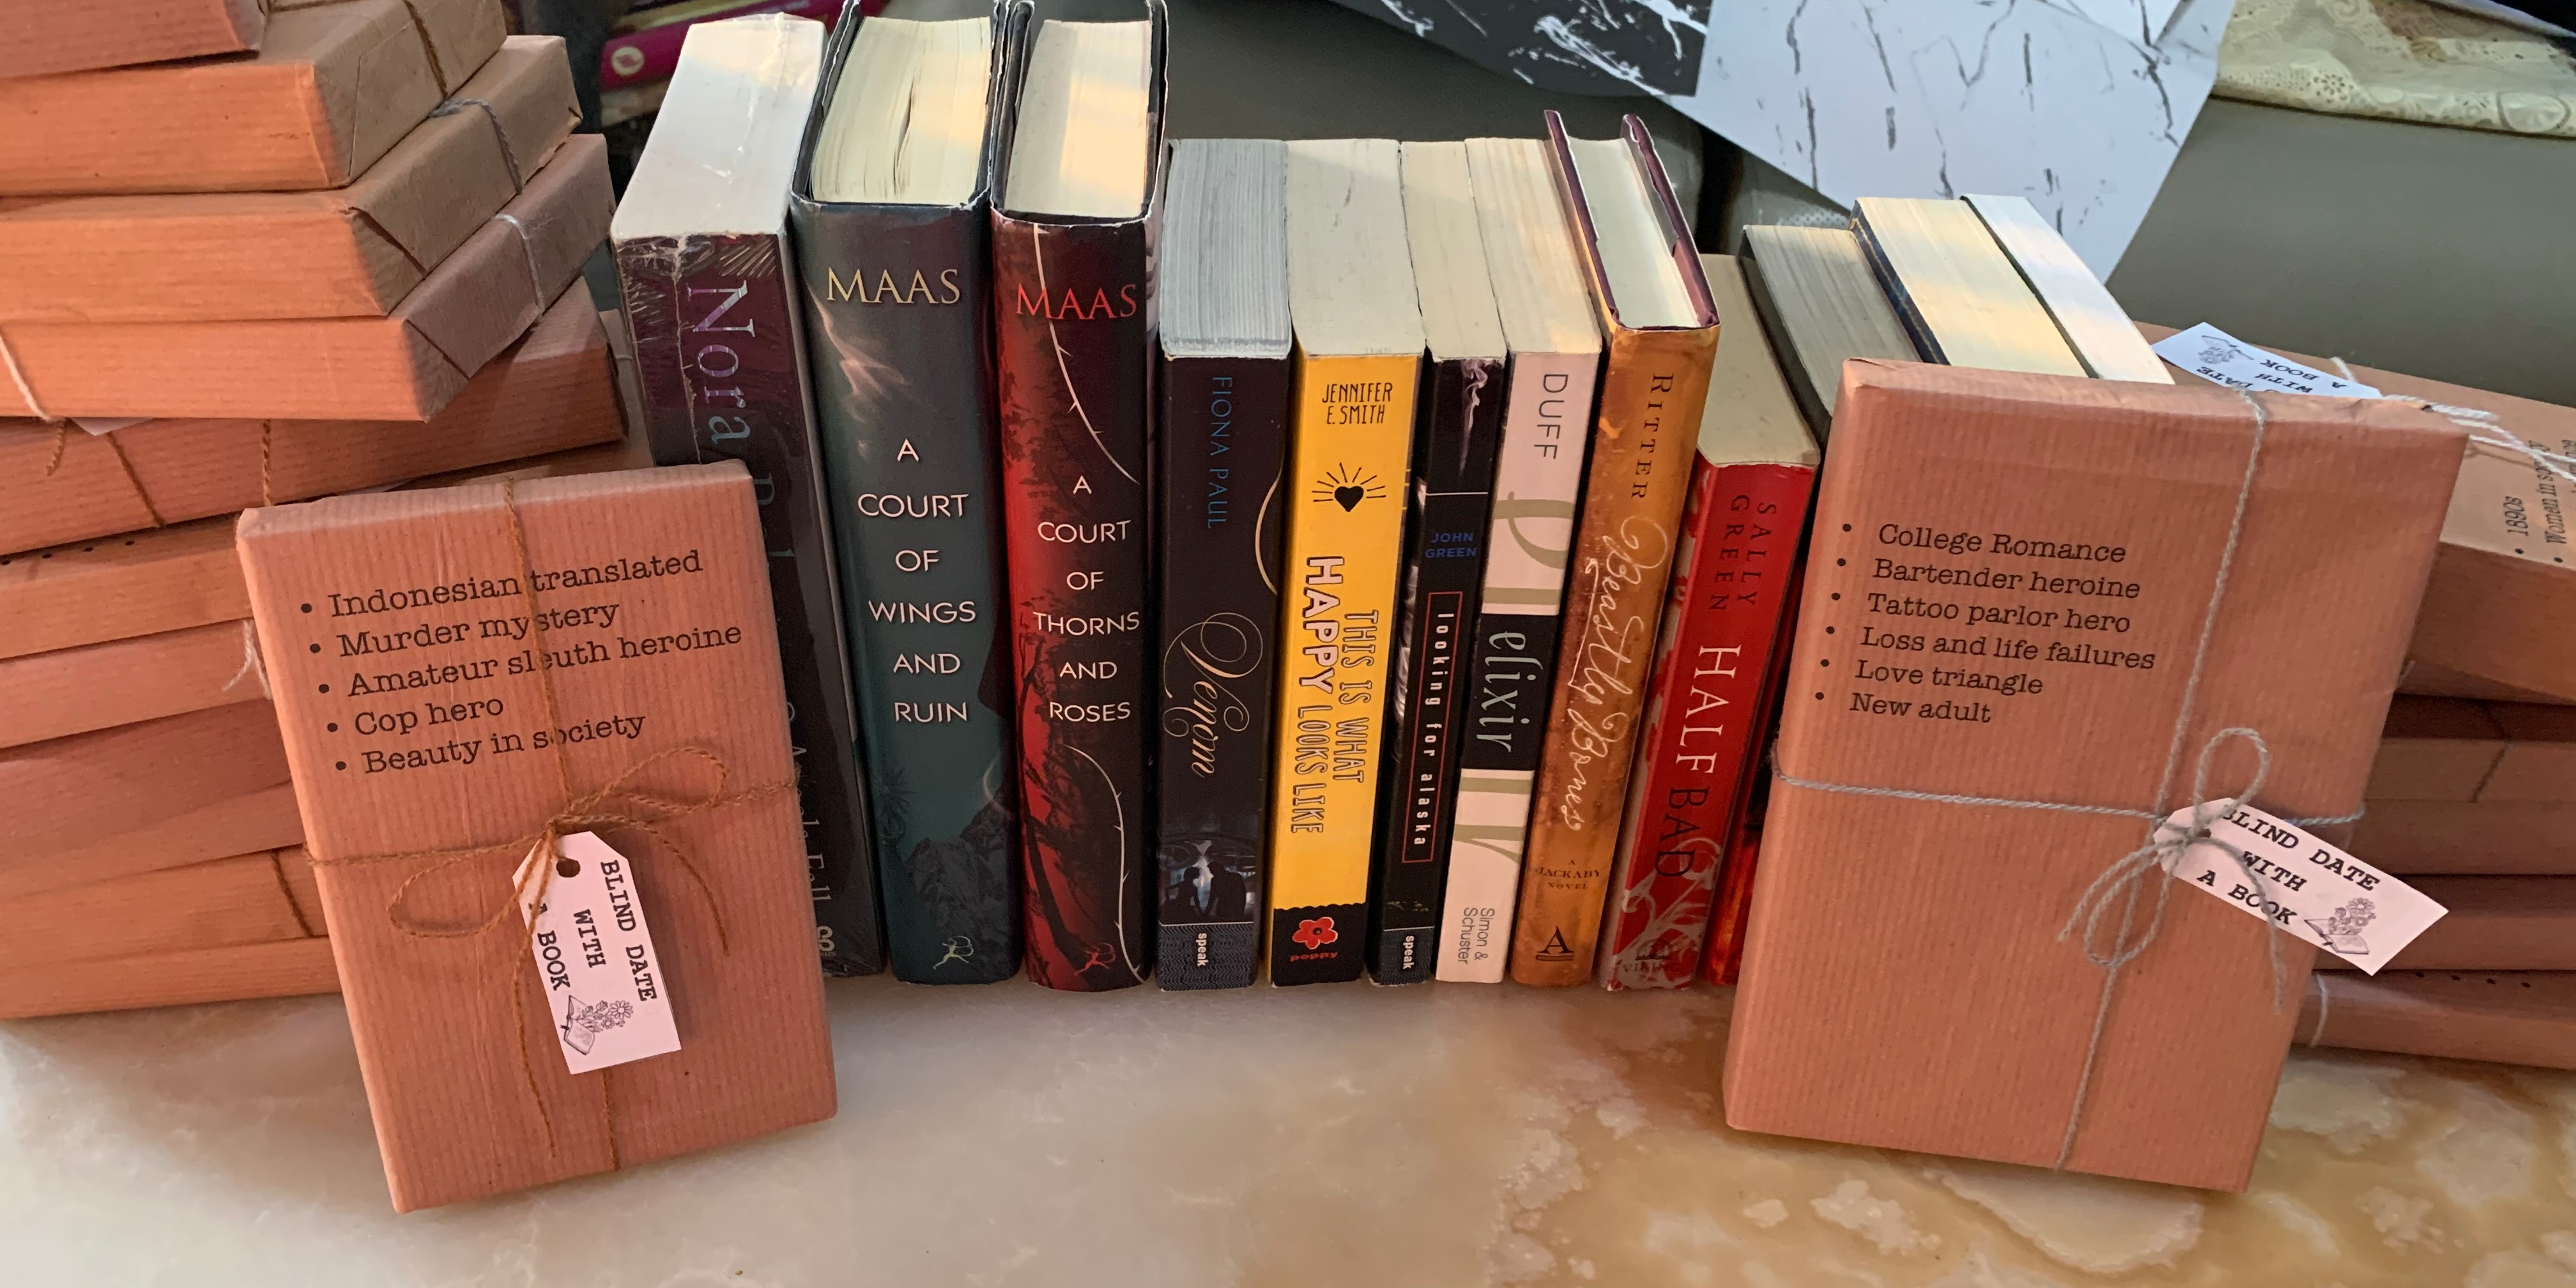buku: (1768, 333, 2394, 1189), (210, 480, 862, 1193), (807, 10, 1024, 996), (1132, 135, 1285, 1002), (1020, 13, 1148, 1004), (1272, 127, 1406, 981)
